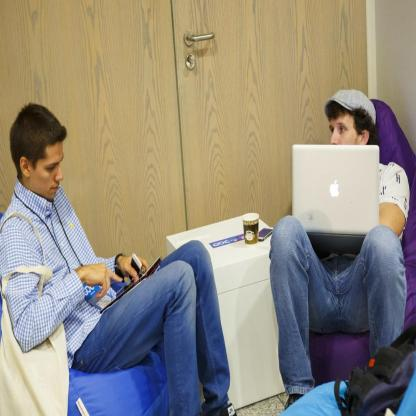board: (289, 141, 404, 262)
